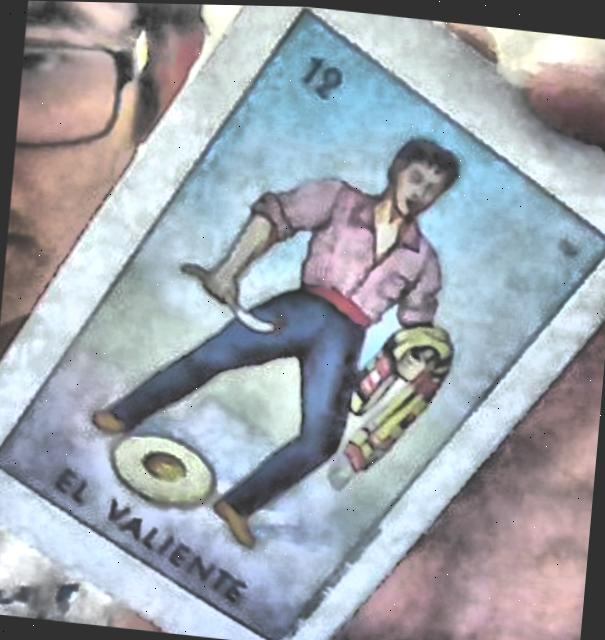El Valiente: (0, 7, 605, 638)
